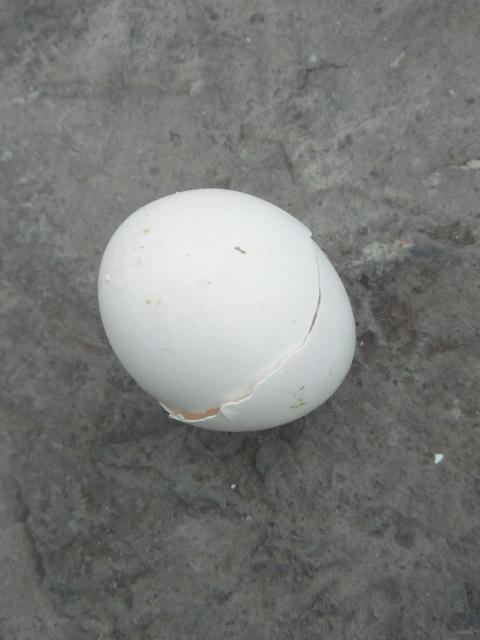Roto: (96, 186, 357, 433)
